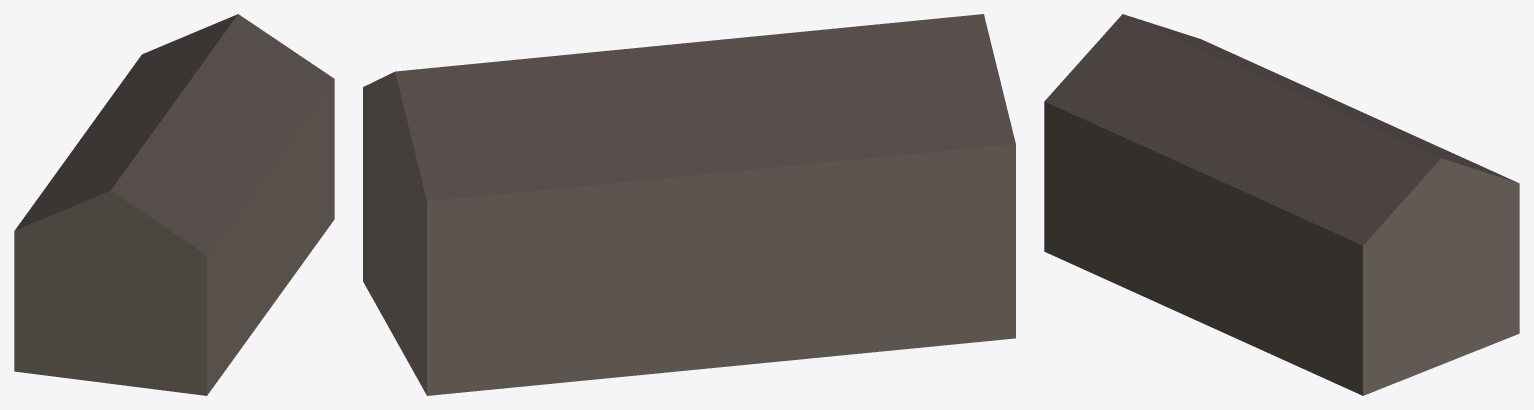
3 views of the same model, side by side, from view 1: azimuth 30°, elevation 25°; view 2: azimuth 150°, elevation 25°; view 3: azimuth 270°, elevation 25° (orthographic). The views are drawn at different scales.
Parts seen in each view (by area): view 1: HP-w859447952; view 2: HP-w859447952; view 3: HP-w859447952.
Boxes of the visible parts, <box> form: HP-w859447952: <box>14,14,334,395</box>; HP-w859447952: <box>363,14,1015,395</box>; HP-w859447952: <box>1044,14,1519,395</box>.
Size of the model in its own units: 26.54 by 12.37 by 25.79.
